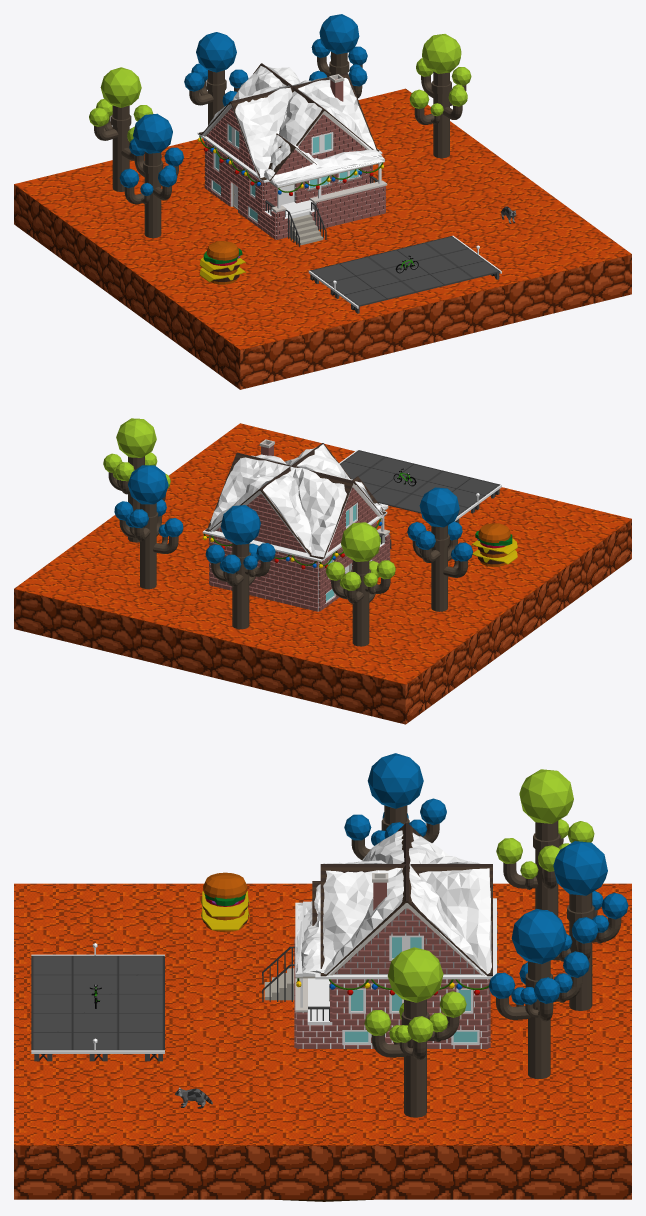
The picture shows the model from 3 angles, top to bottom: view 1: azimuth 30°, elevation 25°; view 2: azimuth 150°, elevation 25°; view 3: azimuth 270°, elevation 25°; orthographic projection. The views are drawn at different scales.
Parts seen in each view (by area): view 1: Cube.001, Cube.1419, OBJRANDOM_HAMBURGER; view 2: Cube.001, Cube.1419, OBJRANDOM_HAMBURGER; view 3: Cube.001, Cube.1419, OBJRANDOM_HAMBURGER.
Boxes of the visible parts, x1,y1,x2,y2 form: Cube.001: (14,14,631,389); Cube.1419: (197,63,387,246); OBJRANDOM_HAMBURGER: (199,241,245,284); Cube.001: (14,418,631,724); Cube.1419: (202,439,391,611); OBJRANDOM_HAMBURGER: (471,523,517,566); Cube.001: (14,753,631,1199); Cube.1419: (262,823,497,1048); OBJRANDOM_HAMBURGER: (201,872,249,932).
Bounding box in the file's own units: 4000 × 1730 × 4000.
Materials: 42 (4 with a texture image).
